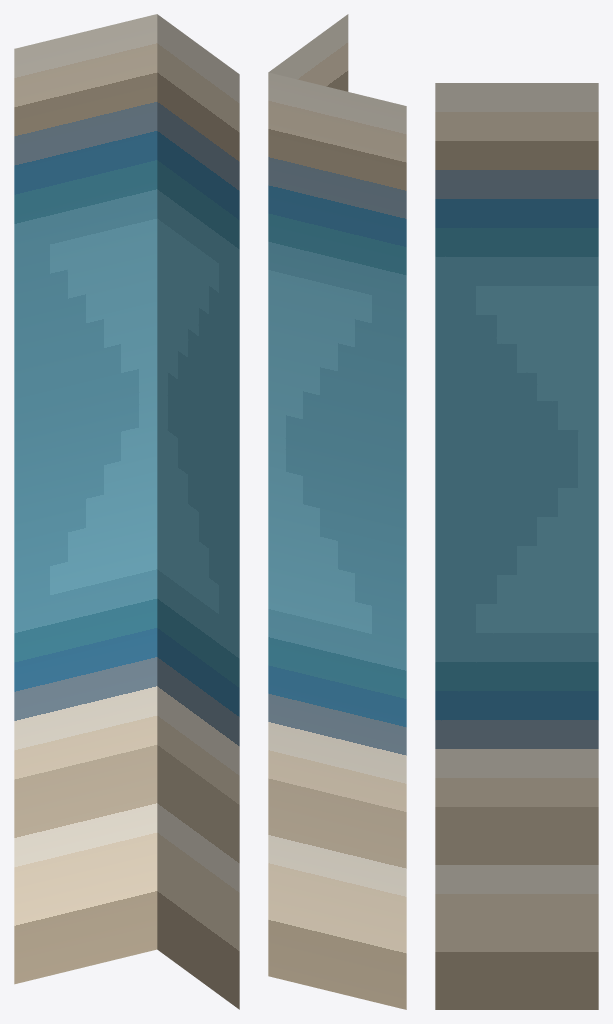
3 views of the same model, side by side, from view 1: azimuth 30°, elevation 25°; view 2: azimuth 150°, elevation 25°; view 3: azimuth 270°, elevation 25° (orthographic). The views are drawn at different scales.
Bounding box in the file's own units: 0.5 × 3.12 × 0.5.
Materials: 1 (1 with a texture image).
